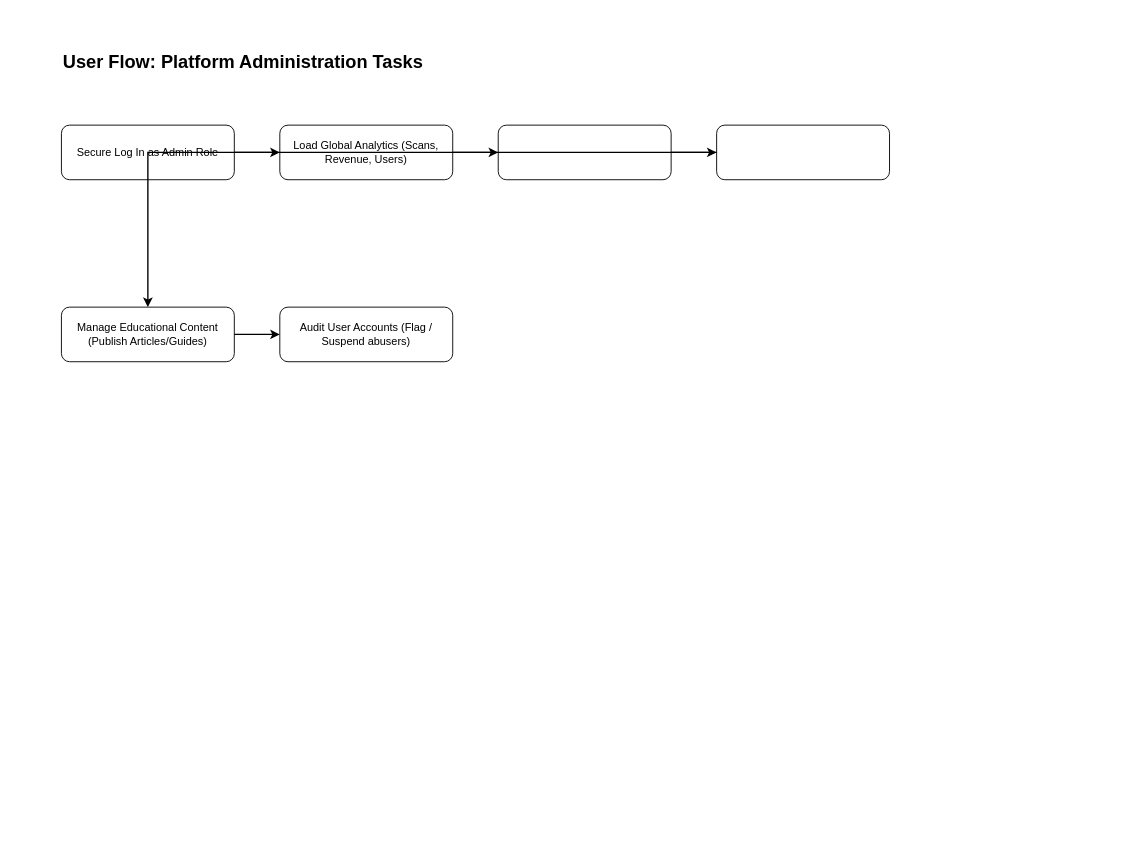
This 1123x850 diagram has some shape labels left out. Here are the shapes that lost their labels. From the top down, the centre of each, then its label:
the point at 584,152: Check Provider Queue (Verification of Licenses)
the point at 803,152: Verify Qualifications & Set Status = Approved
